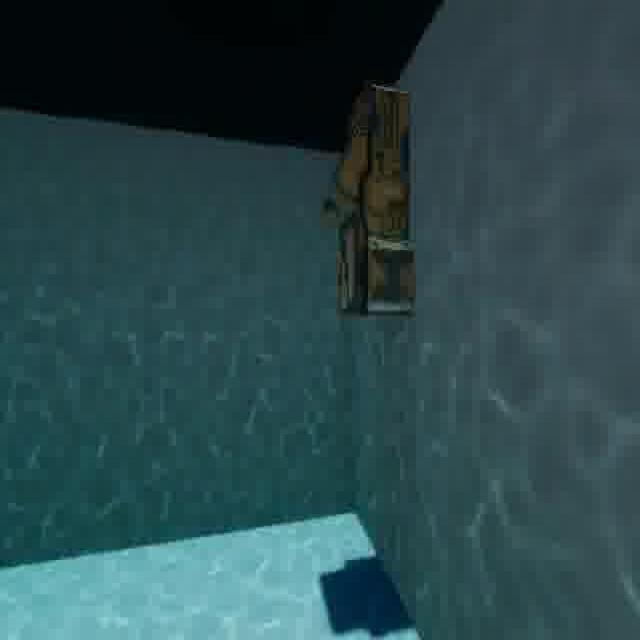Control Panel: (311, 70, 430, 326)
